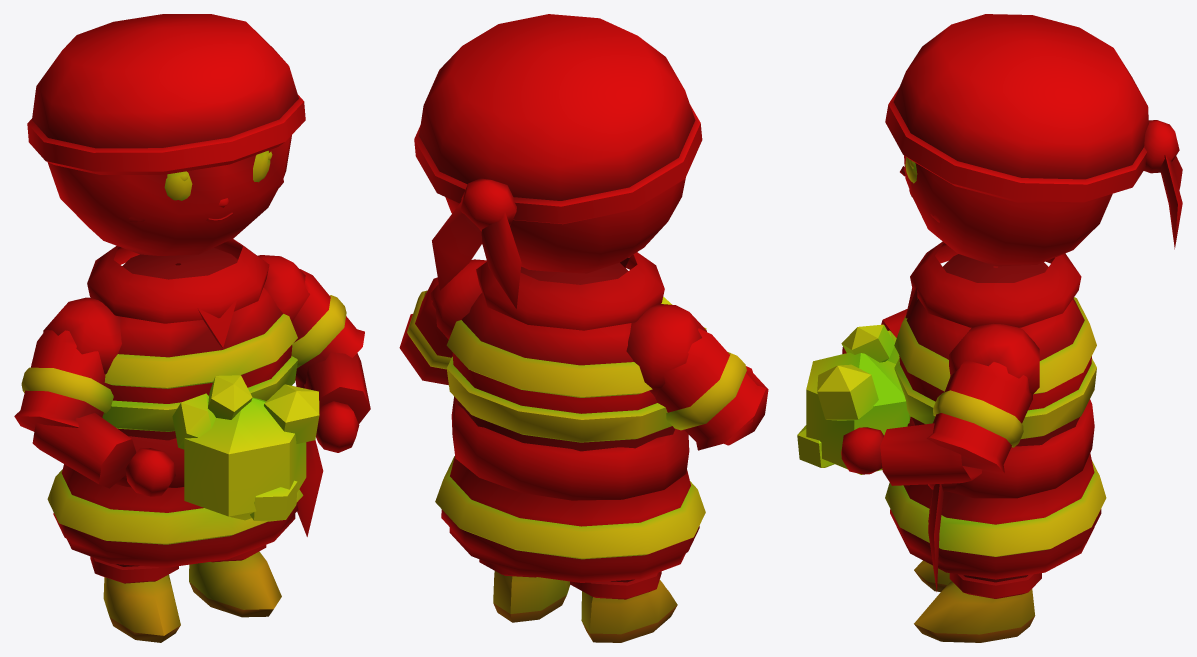
The model's file is PirateDeckhand_carry_gold.glb.
3 views of the same model, side by side, from view 1: azimuth 30°, elevation 25°; view 2: azimuth 150°, elevation 25°; view 3: azimuth 270°, elevation 25° (orthographic). The views are drawn at different scales.
Parts seen in each view (by area): view 1: PirateDeckhand_carry_gold; view 2: PirateDeckhand_carry_gold; view 3: PirateDeckhand_carry_gold.
Boxes of the visible parts, box(x1,y1,x2,y2) form: PirateDeckhand_carry_gold: box(14, 14, 370, 642); PirateDeckhand_carry_gold: box(399, 14, 768, 642); PirateDeckhand_carry_gold: box(797, 14, 1182, 642).
Size of the model in its own units: 0.5164 by 0.8097 by 0.5017.
